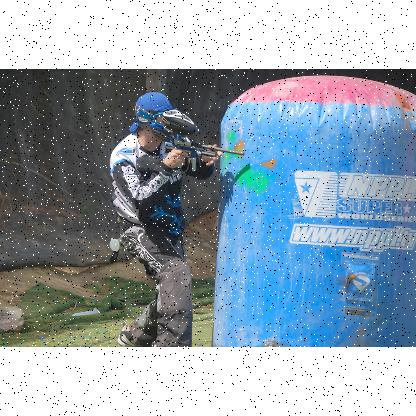gun: (163, 134, 243, 170)
